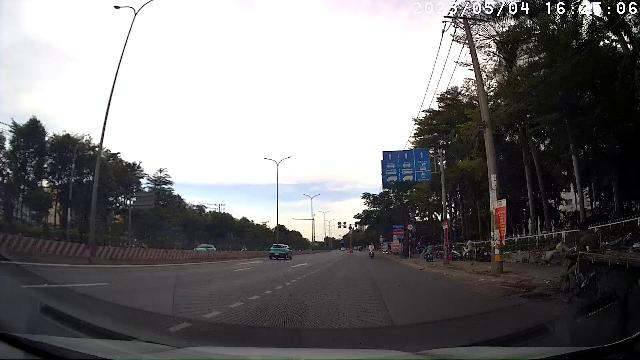127-toc-do-toi-da-50: (406, 223, 414, 231)
